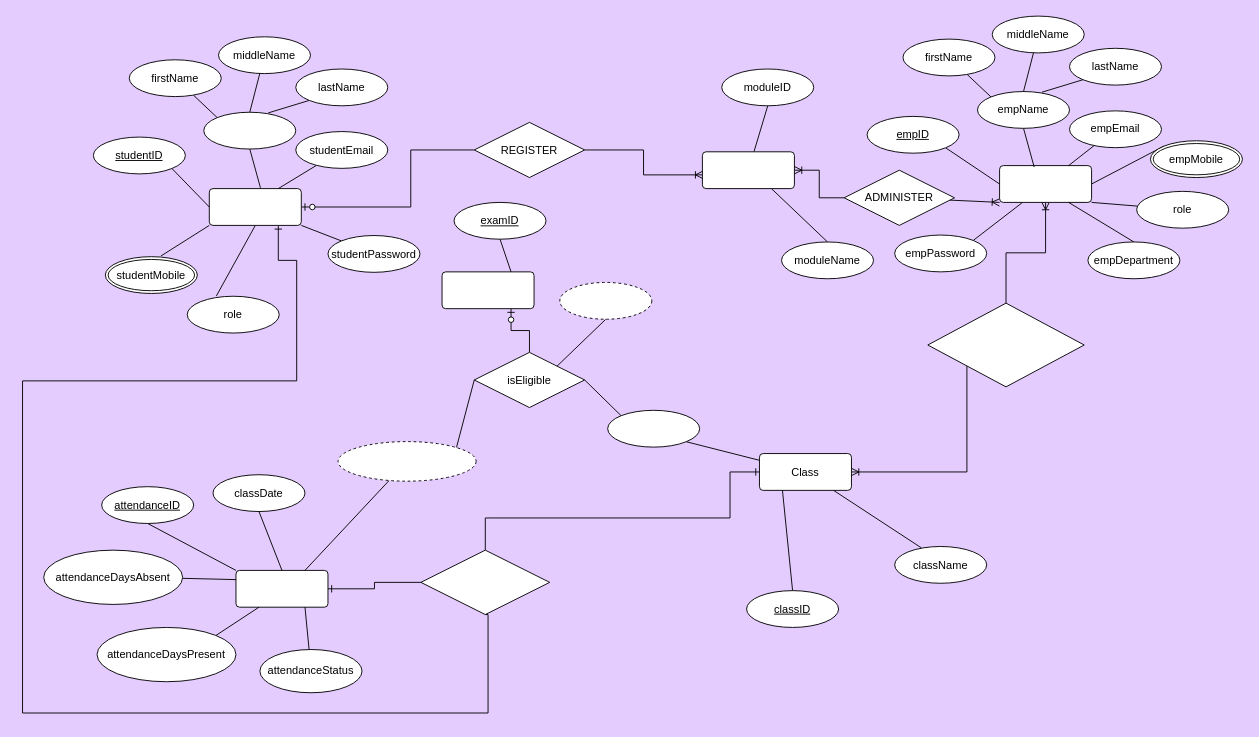
Some shapes in this 1259 by 737 pixel diagram are drawn without their labels. Each missing label, with the centre of its shape:
"Attendance" goes at (281,588).
"attendancePercentage" goes at (406,461).
"caMarks" goes at (653,428).
"Employee" goes at (1045,183).
"Exam" goes at (487,290).
"Module" goes at (748,170).
"status" goes at (605,300).
"Student" goes at (254,206).
"studentName" goes at (249,130).
"TAKES/ATTENDS" goes at (485,582).
"TEACH/ADMINISTER" goes at (1005,344).
